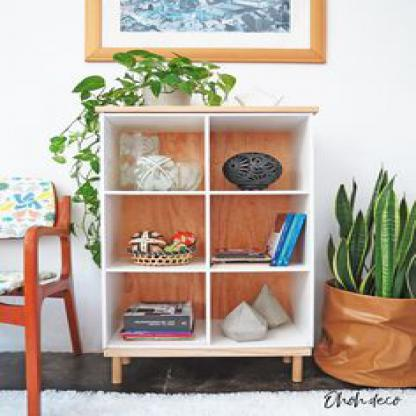lamp: (98, 104, 316, 385)
